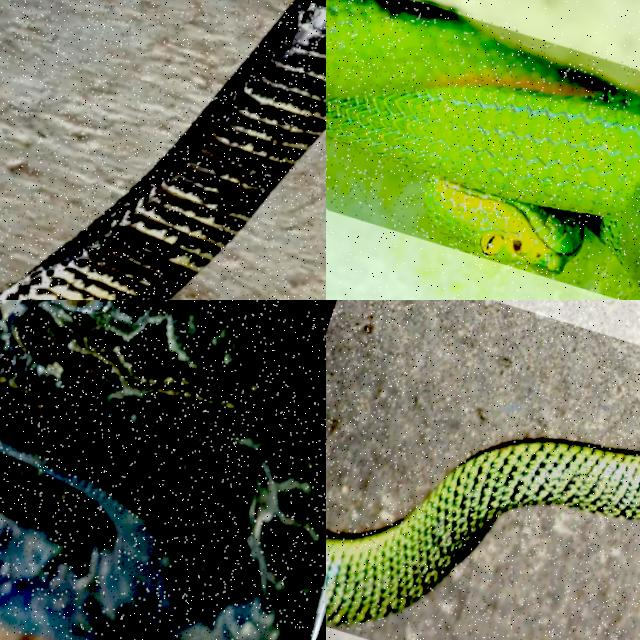Chrysopelea ornata: (326, 440, 639, 624)
Ophiophagus hannah: (0, 0, 325, 299)
Python bivittatus: (0, 300, 325, 639)
Trimeresurus macrops: (326, 0, 639, 282)
